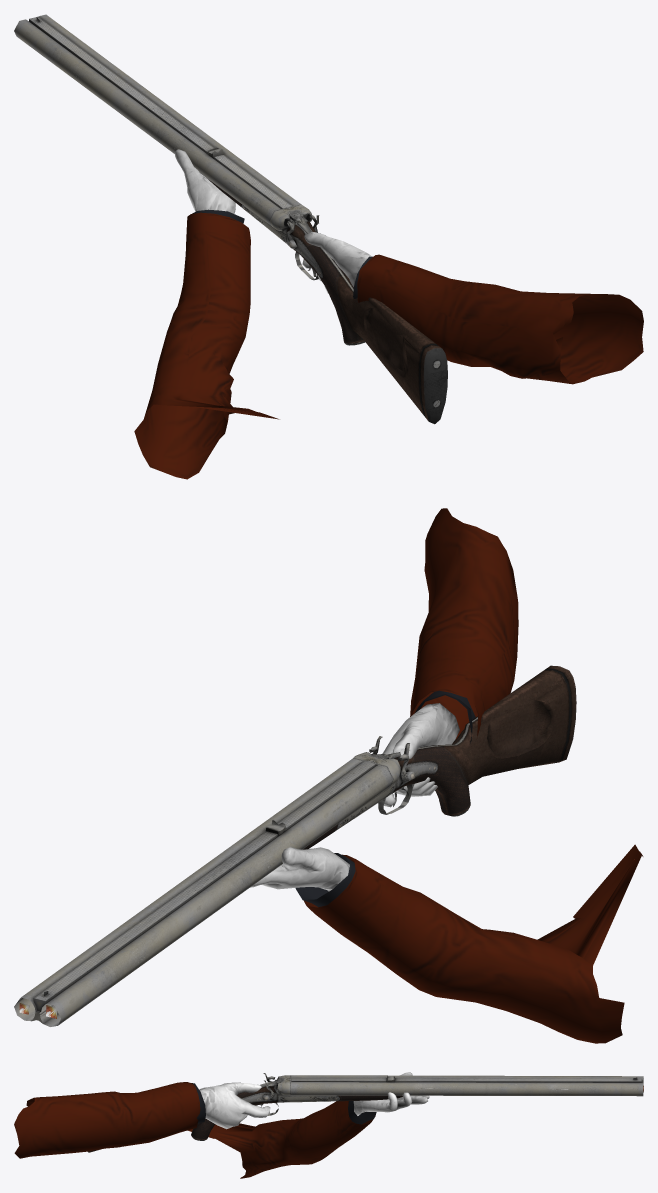
File: frame_20.obj
3 views of the same model, one above another, from view 1: azimuth 30°, elevation 25°; view 2: azimuth 150°, elevation 25°; view 3: azimuth 270°, elevation 25° (orthographic). The views are drawn at different scales.
Visible parts, largest first — view 1: PlayerModelMerged.001_PlayerModelMerged, double_-_barreled_shotgun_L_double_-_barreled_shotgun_LP_к.002, double_-_barreled_shotgun_L_double_-_barreled_shotgun_LP_к.001; view 2: PlayerModelMerged.001_PlayerModelMerged, double_-_barreled_shotgun_L_double_-_barreled_shotgun_LP_к.002, double_-_barreled_shotgun_L_double_-_barreled_shotgun_LP_к.001; view 3: PlayerModelMerged.001_PlayerModelMerged, double_-_barreled_shotgun_L_double_-_barreled_shotgun_LP_к.002, double_-_barreled_shotgun_L_double_-_barreled_shotgun_LP_к.001.
Part boxes in pixels (box(x1,y1,x2,y2)): PlayerModelMerged.001_PlayerModelMerged: box(134, 149, 643, 479); double_-_barreled_shotgun_L_double_-_barreled_shotgun_LP_к.002: box(14, 14, 300, 225); double_-_barreled_shotgun_L_double_-_barreled_shotgun_LP_к.001: box(208, 179, 447, 424); PlayerModelMerged.001_PlayerModelMerged: box(250, 508, 643, 1043); double_-_barreled_shotgun_L_double_-_barreled_shotgun_LP_к.002: box(14, 758, 392, 1026); double_-_barreled_shotgun_L_double_-_barreled_shotgun_LP_к.001: box(303, 665, 576, 849); PlayerModelMerged.001_PlayerModelMerged: box(14, 1072, 429, 1178); double_-_barreled_shotgun_L_double_-_barreled_shotgun_LP_к.002: box(291, 1075, 643, 1096); double_-_barreled_shotgun_L_double_-_barreled_shotgun_LP_к.001: box(88, 1073, 402, 1152).
Bounding box in the file's own units: 0.8331 × 0.5622 × 2.
